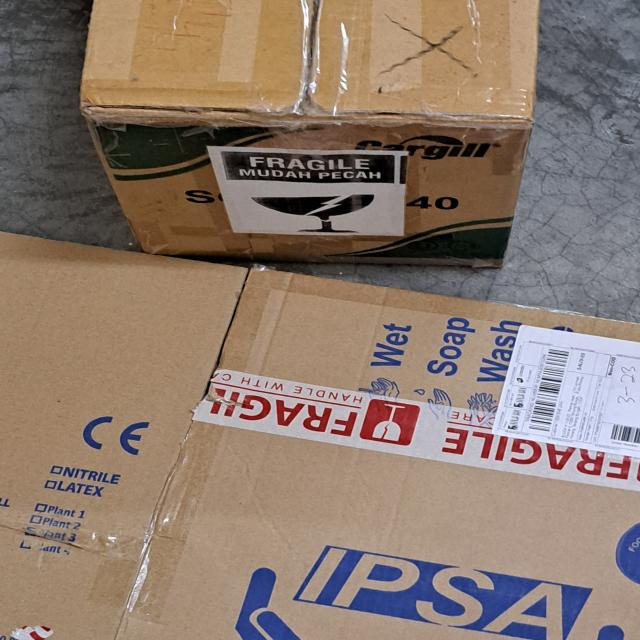cardboard: (0, 231, 640, 640), (78, 0, 557, 273)
